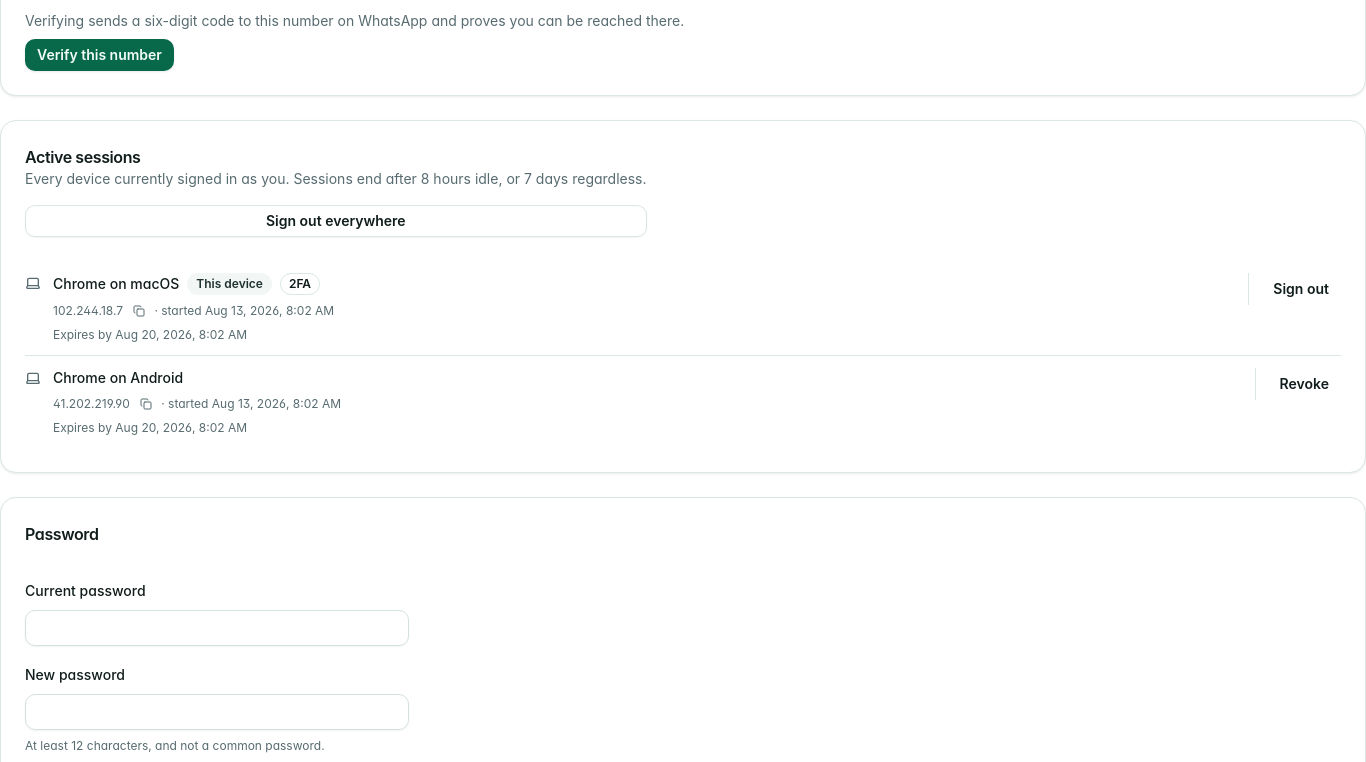
Scenario: the session list › refetches after revoking another device
The width and height of the screenshot is (1366, 762).
(page scrolled)
Expected: the text "Chrome on Android" is shown, 53,368 -> 183,388
Click the button "Revoke": coordinates (1304, 384) 1268,368 -> 1341,400
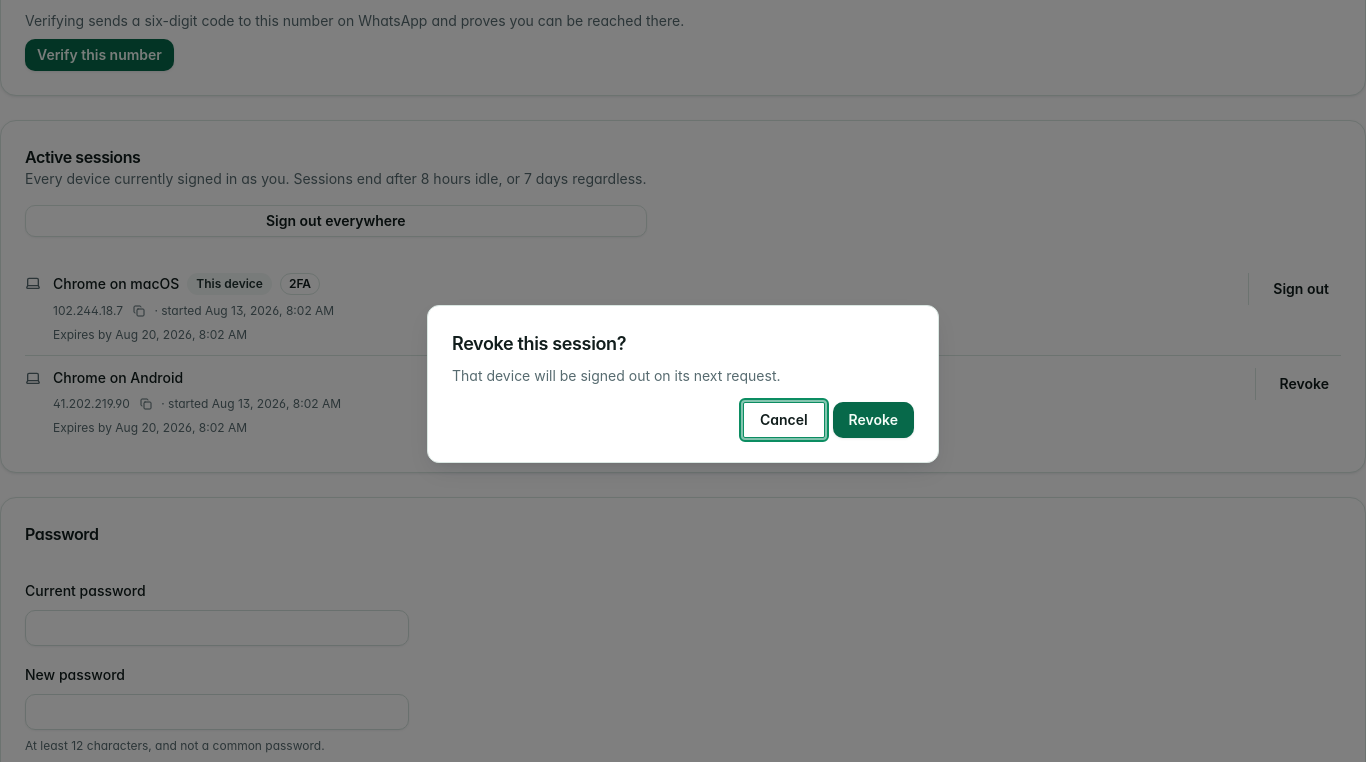
Click the button "Revoke": coordinates (873, 420) 833,402 -> 914,438
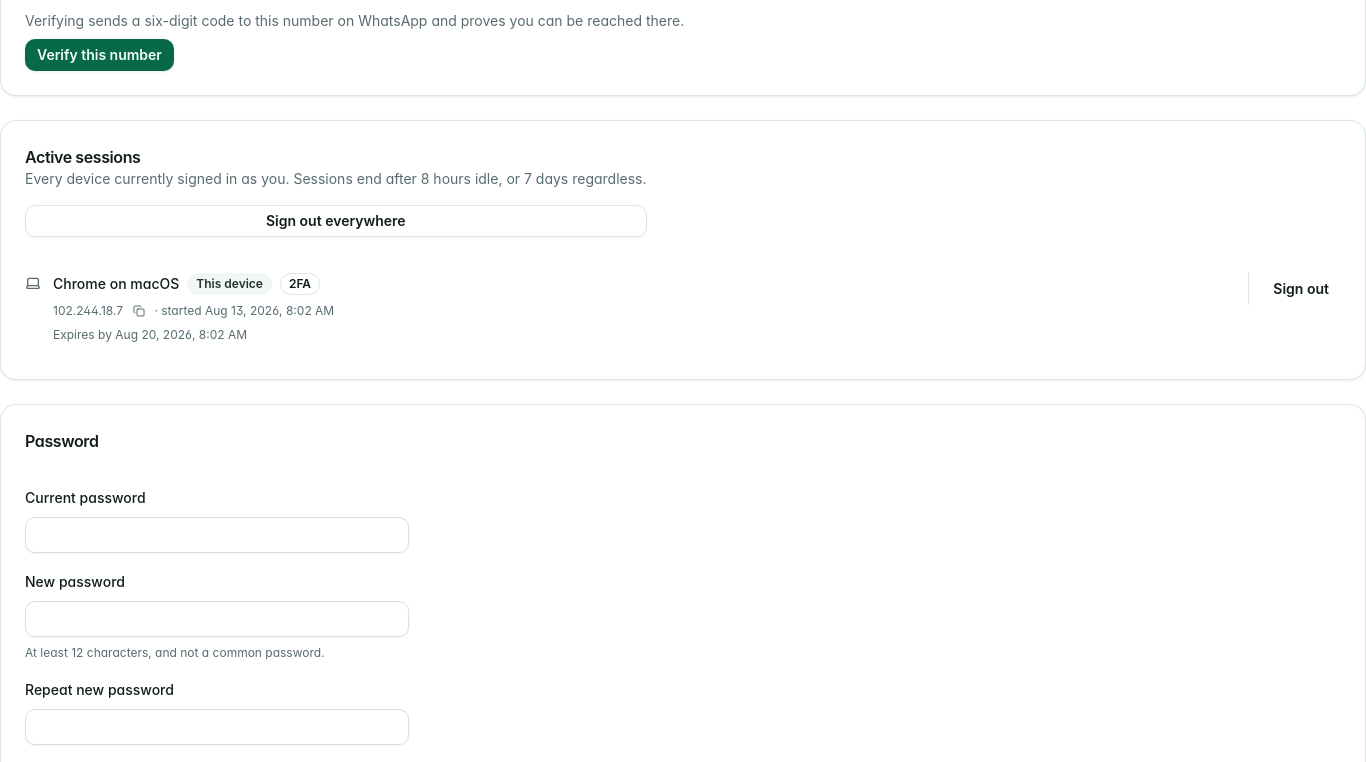
Expected: the text "Chrome on Android" is gone
